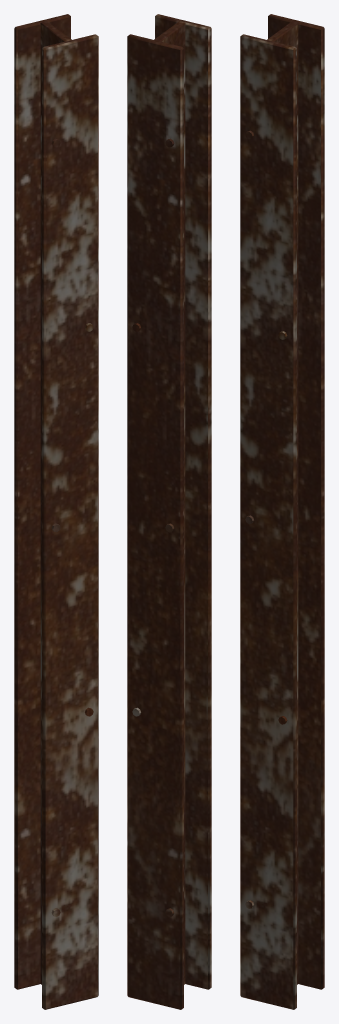
Rendered from ibeam.glb.
3 views of the same model, side by side, from view 1: azimuth 30°, elevation 25°; view 2: azimuth 150°, elevation 25°; view 3: azimuth 330°, elevation 25° (orthographic).
Visible parts, largest first — view 1: ibeam; view 2: ibeam; view 3: ibeam.
Boxes of the visible parts, x1,y1,x2,y2 form: ibeam: [14, 14, 98, 1009]; ibeam: [127, 14, 211, 1009]; ibeam: [240, 14, 324, 1009].
Size of the model in its own units: 0.06 by 1 by 0.064.
1 material, 1 textured.
